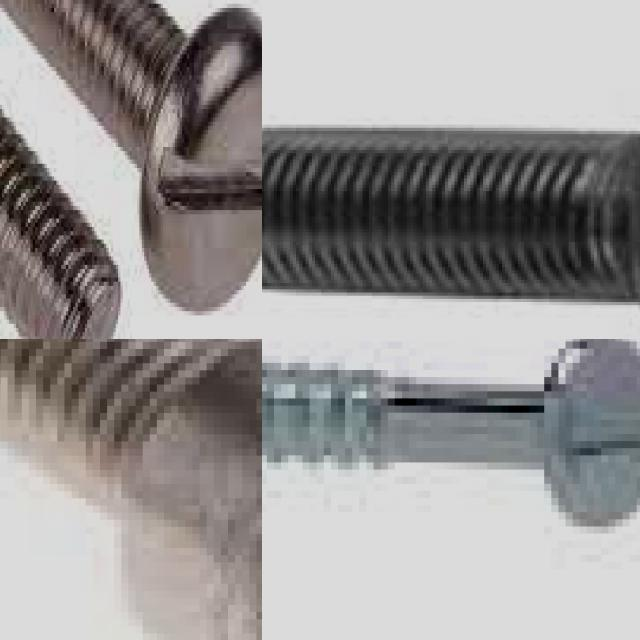Screw: (0, 0, 262, 315), (0, 339, 262, 640), (262, 339, 640, 519), (262, 131, 640, 308), (0, 108, 123, 339)
